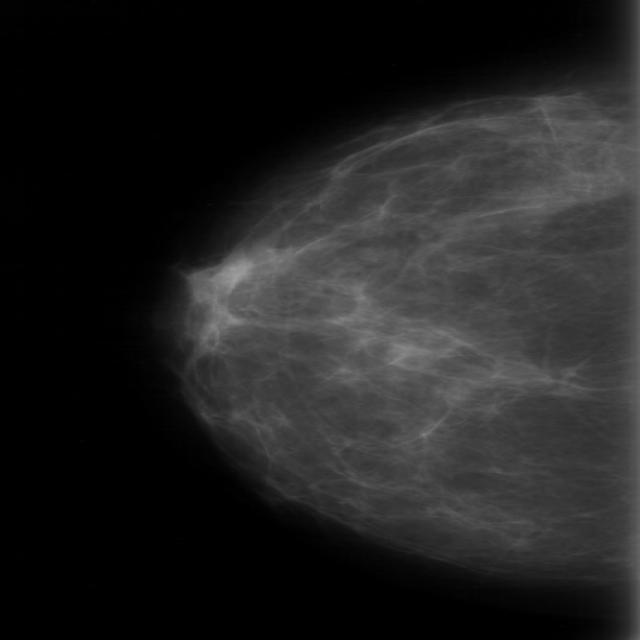tumour: (382, 340, 428, 364)
